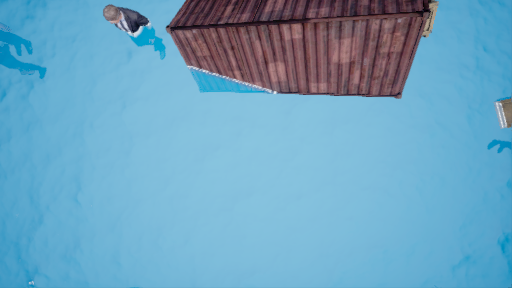person: (100, 6, 168, 60)
